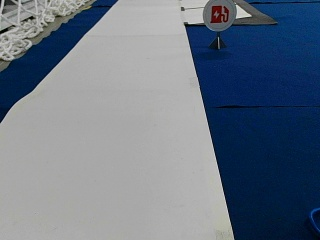battery: (202, 0, 237, 32)
